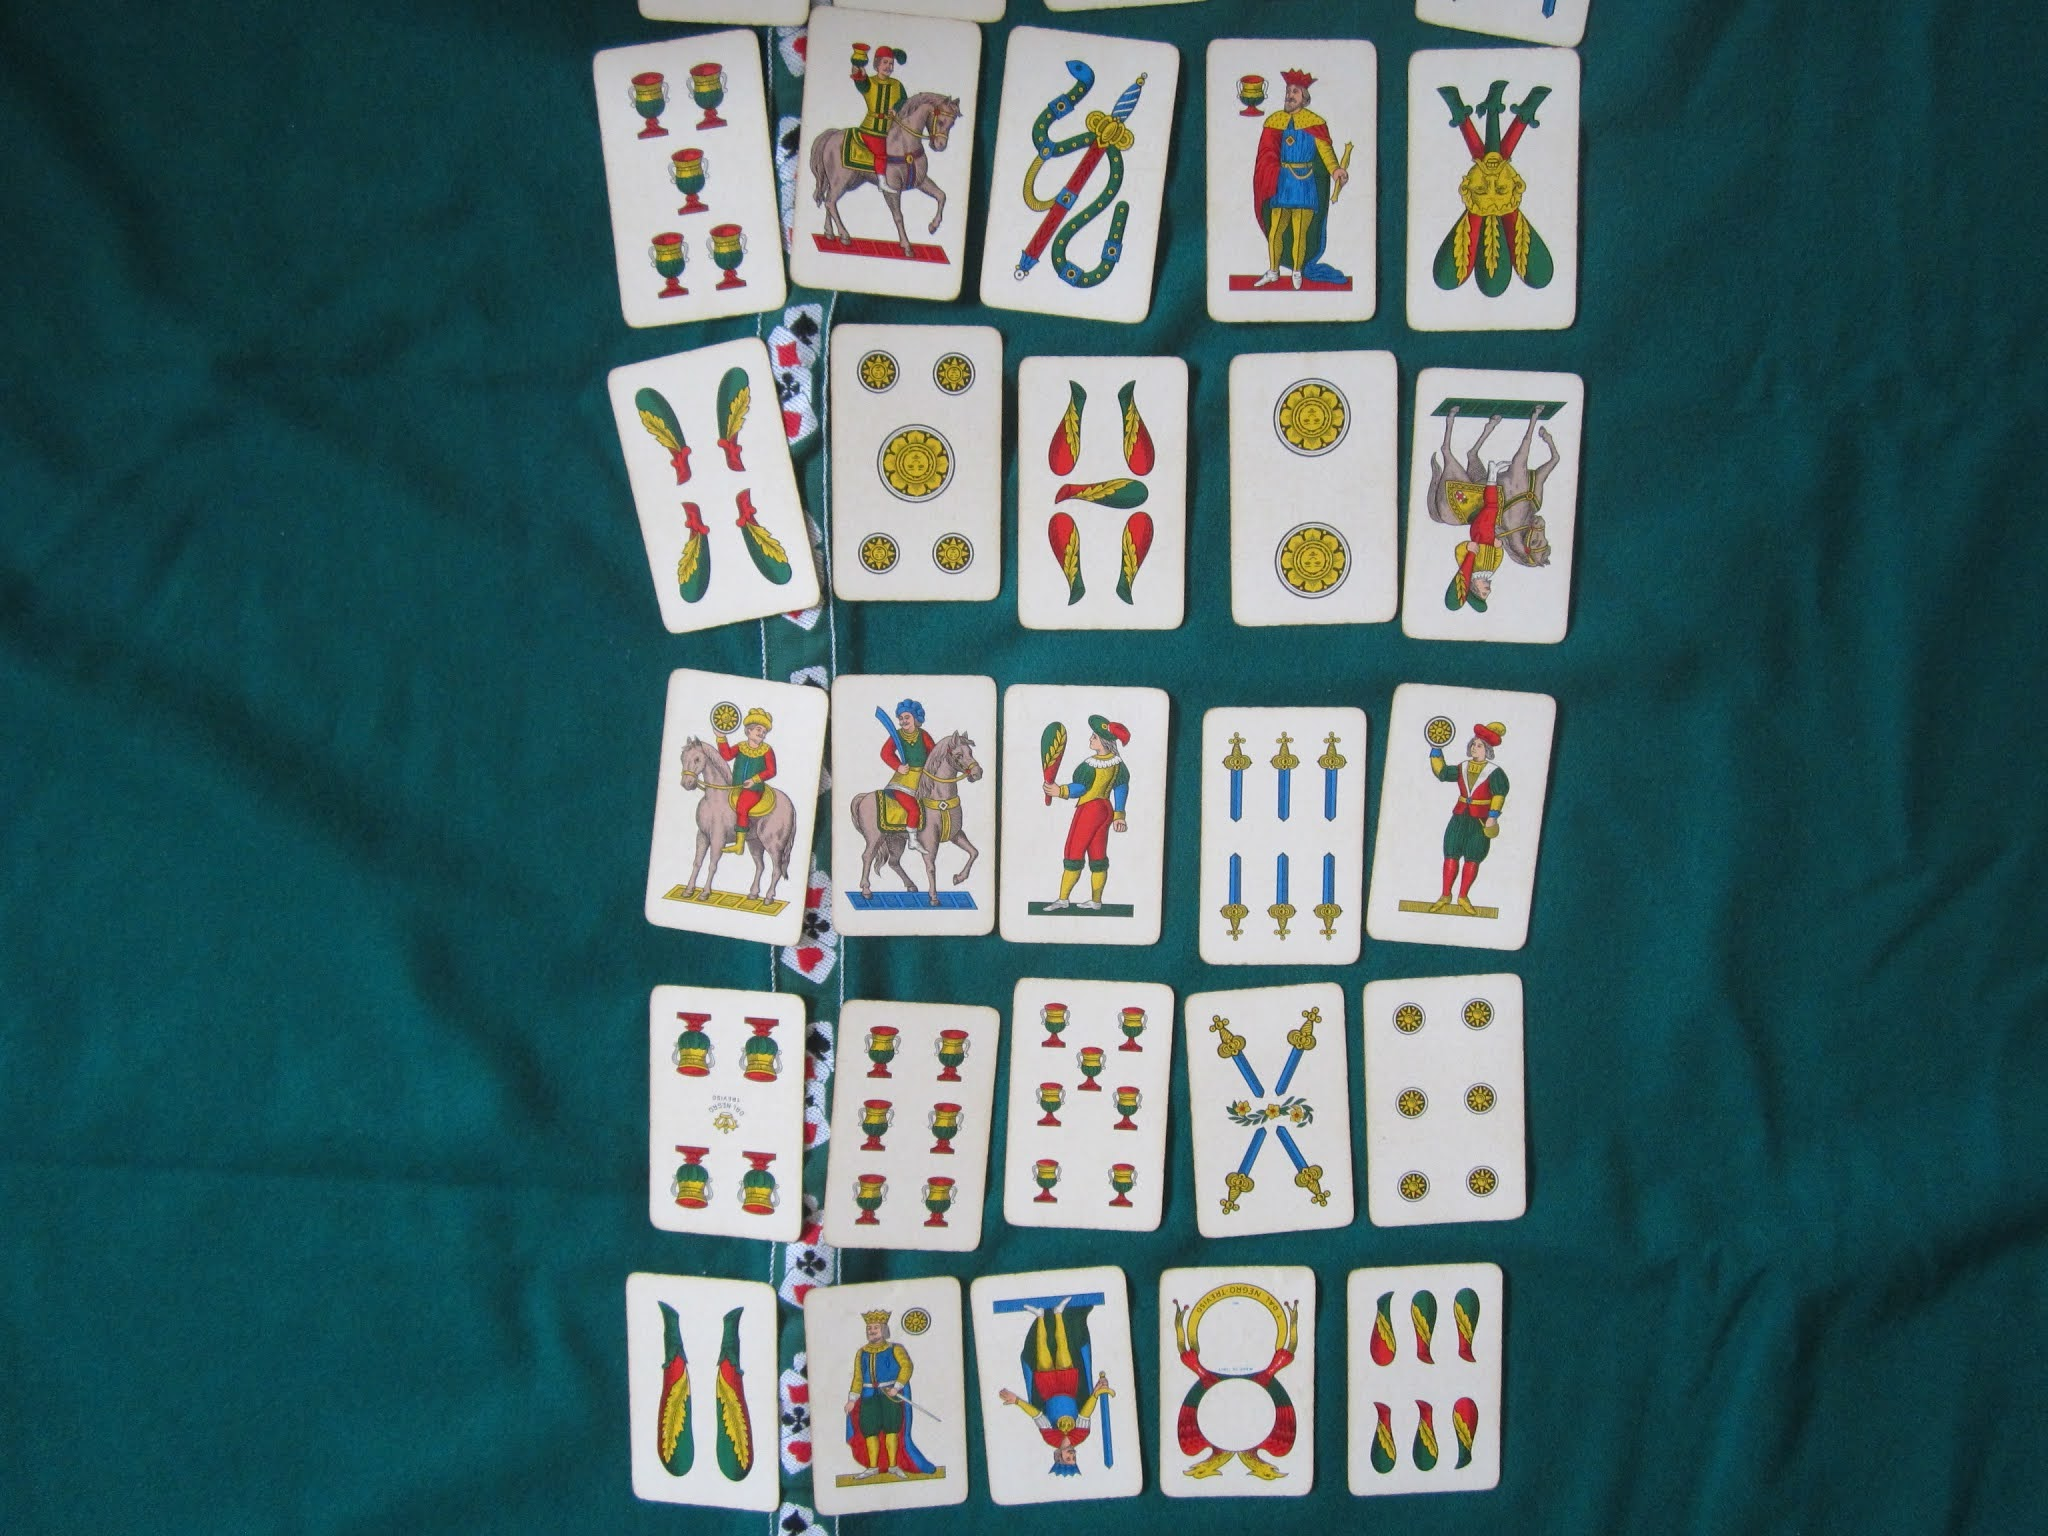coppe: (569, 40, 800, 331), (1193, 23, 1398, 328), (621, 976, 811, 1249), (1001, 963, 1174, 1242), (824, 979, 997, 1254)
denari: (627, 628, 827, 963), (816, 307, 1016, 616), (1221, 332, 1409, 631), (1359, 968, 1559, 1231), (792, 1267, 976, 1526)
